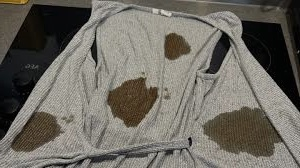coffee: (219, 111, 274, 146), (114, 82, 154, 118), (27, 119, 51, 142), (165, 36, 187, 58)
